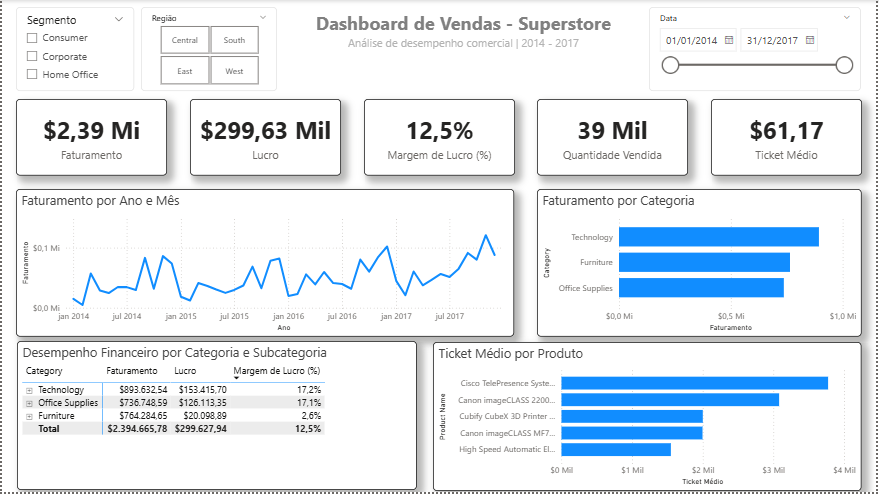

What the dashboard file says about the page in this screenshot:
{"tool":"powerbi","page":{"name":"Página 1","canvas":[1280,720],"ordinal":0},"visuals":[{"type":"group","id":"g1","title":"Grupo 3","box":[20.5,144.9,1238,573.5],"z":0},{"type":"group","id":"g2","title":"Grupo 1","box":[20.5,144.9,1238,112.3],"z":0,"group":"g1"},{"type":"card","title":"Faturamento","fields":{"Values":["Fato_Vendas.Faturamento"]},"box":[20.5,144.9,220.9,112.3],"z":0,"group":"g3"},{"type":"card","title":"Ticket Médio","fields":{"Values":["Fato_Vendas.Ticket Médio"]},"box":[1038,144.9,220.9,112.3],"z":0,"group":"g2"},{"type":"slicer","fields":{"Values":["Dim_Tempo.Data"]},"box":[946.7,10.3,310.2,122.6],"z":1000},{"type":"group","id":"g3","title":"Grupo 2","box":[20.5,144.9,984.1,112.3],"z":1000,"group":"g2"},{"type":"card","title":"Lucro","fields":{"Values":["Fato_Vendas.Lucro"]},"box":[274.9,144.9,220.9,112.3],"z":1000,"group":"g3"},{"type":"lineChart","fields":{"Y":["Fato_Vendas.Faturamento"],"Category":["Dim_Tempo.Data.Variation.Hierarquia de datas.Ano","Dim_Tempo.Data.Variation.Hierarquia de datas.Mês"]},"box":[20.5,276.5,729.4,215.8],"z":1000,"group":"g1"},{"type":"slicer","fields":{"Values":["Dim_Locais.Region"]},"box":[203.4,10.2,199,122.9],"z":2000},{"type":"card","title":"Margem de Lucro ","fields":{"Values":["Fato_Vendas.Margem de Lucro (%)"]},"box":[529.3,144.9,220.9,112.3],"z":2000,"group":"g3"},{"type":"clusteredBarChart","title":"Faturamento por Categoria","fields":{"Category":["Dim_Produto.Category"],"Y":["Fato_Vendas.Faturamento"]},"box":[782.8,276.6,475.4,216],"z":2000,"group":"g1"},{"type":"slicer","fields":{"Values":["Dim_Cliente.Segment"]},"box":[20.5,10.2,172.7,122.9],"z":3000},{"type":"card","title":"Quantidade Vendida","fields":{"Values":["Fato_Vendas.Quantidade"]},"box":[783.7,144.9,220.9,112.3],"z":3000,"group":"g3"},{"type":"pivotTable","title":"Desempenho Financeiro por Categoria e Subcategoria","fields":{"Rows":["Dim_Produto.Produto.Category","Dim_Produto.Produto.Sub-Category"],"Values":["Fato_Vendas.Faturamento","Fato_Vendas.Lucro","Fato_Vendas.Margem de Lucro (%)"]},"box":[22.4,498.4,585,218.3],"z":3000,"group":"g1"},{"type":"textbox","box":[424.4,10.2,502,102.4],"z":4000},{"type":"clusteredBarChart","title":"Ticket Médio por Produto","fields":{"Category":["Dim_Produto.Product Name"],"Y":["Fato_Vendas.Ticket Médio"]},"box":[631.4,500.1,626.7,218.3],"z":4000,"group":"g1"}]}

Visuals, with their boxes in screenshot pixels (x1, y1, x2, y2), scaled from the page's 1280x720 canvas onto the 879x498 screenshot:
"Grupo 3" group: left=14, top=100, right=864, bottom=497
"Grupo 1" group: left=14, top=100, right=864, bottom=178
"Faturamento" card: left=14, top=100, right=166, bottom=178
"Ticket Médio" card: left=713, top=100, right=865, bottom=178
slicer - Dim_Tempo.Data: left=650, top=7, right=863, bottom=92
"Grupo 2" group: left=14, top=100, right=690, bottom=178
"Lucro" card: left=189, top=100, right=340, bottom=178
lineChart - Fato_Vendas.Faturamento x Dim_Tempo.Data.Variation.Hierarquia de datas.Ano: left=14, top=191, right=515, bottom=341
slicer - Dim_Locais.Region: left=140, top=7, right=276, bottom=92
"Margem de Lucro " card: left=363, top=100, right=515, bottom=178
"Faturamento por Categoria" clusteredBarChart: left=538, top=191, right=864, bottom=341
slicer - Dim_Cliente.Segment: left=14, top=7, right=133, bottom=92
"Quantidade Vendida" card: left=538, top=100, right=690, bottom=178
"Desempenho Financeiro por Categoria e Subcategoria" pivotTable: left=15, top=345, right=417, bottom=496
textbox: left=291, top=7, right=636, bottom=78
"Ticket Médio por Produto" clusteredBarChart: left=434, top=346, right=864, bottom=497
